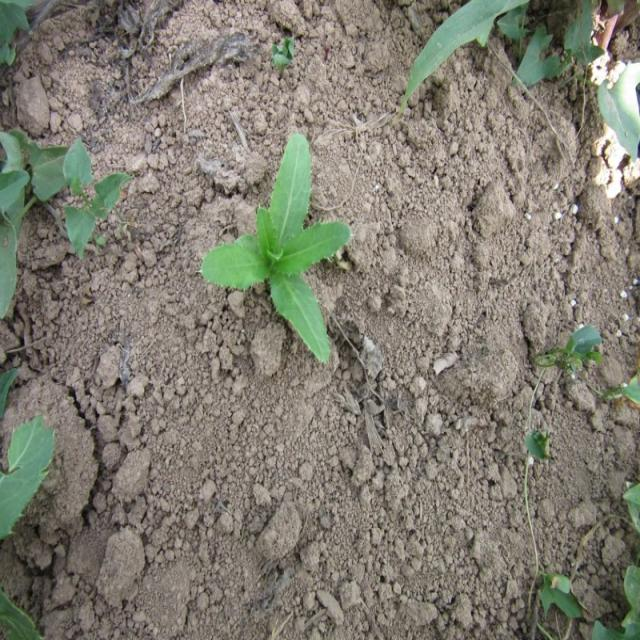cs: (196, 126, 352, 372)
